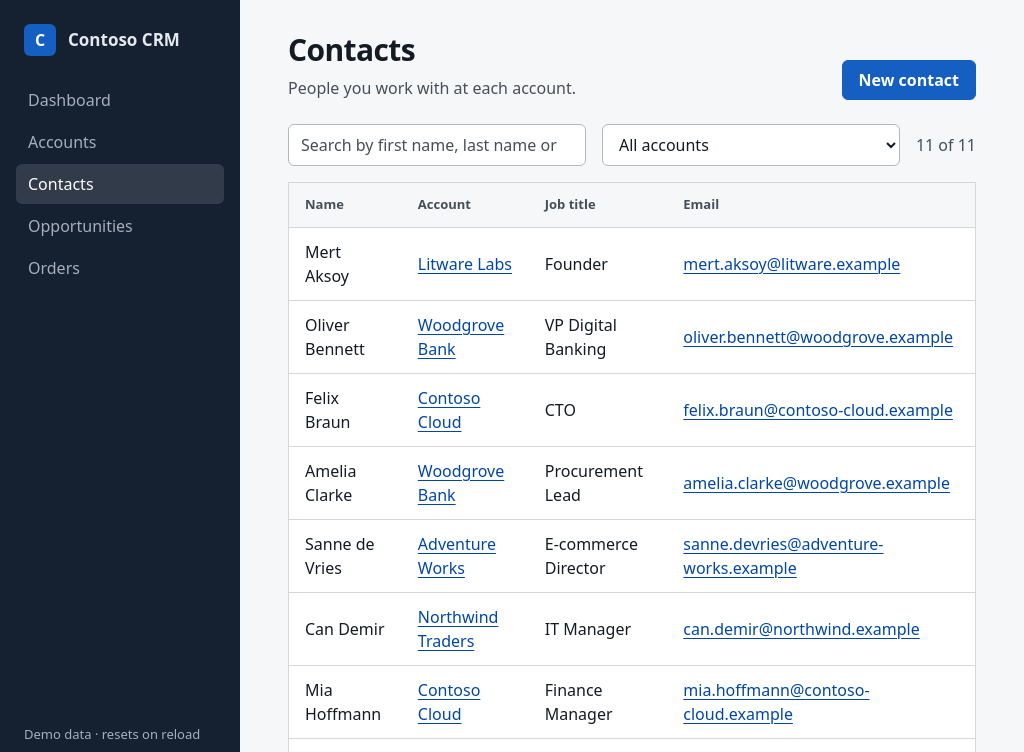
it: Contacts › combines account-first filtering with search and clears each control independently
Select "Woodgrove Bank" in the dropdown named "Account" at [751, 145], box [602,124,900,166]
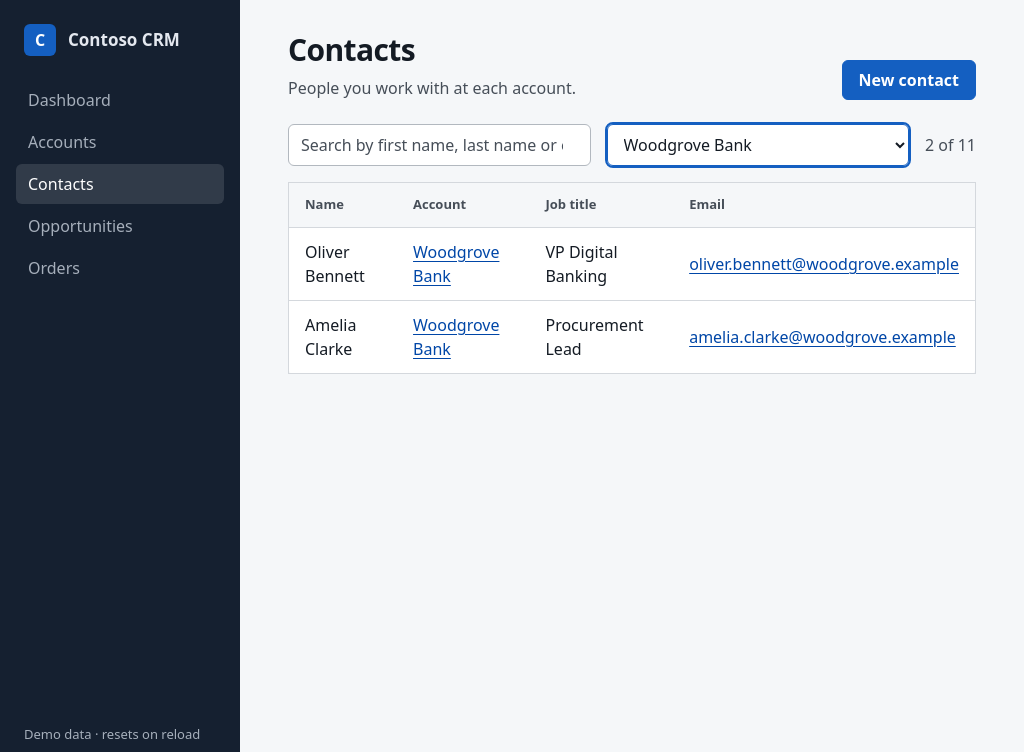
Type "OLIVER" into the search field named "Search contacts".
click(439, 145); type("OLIVER")  # box [288,124,590,166]
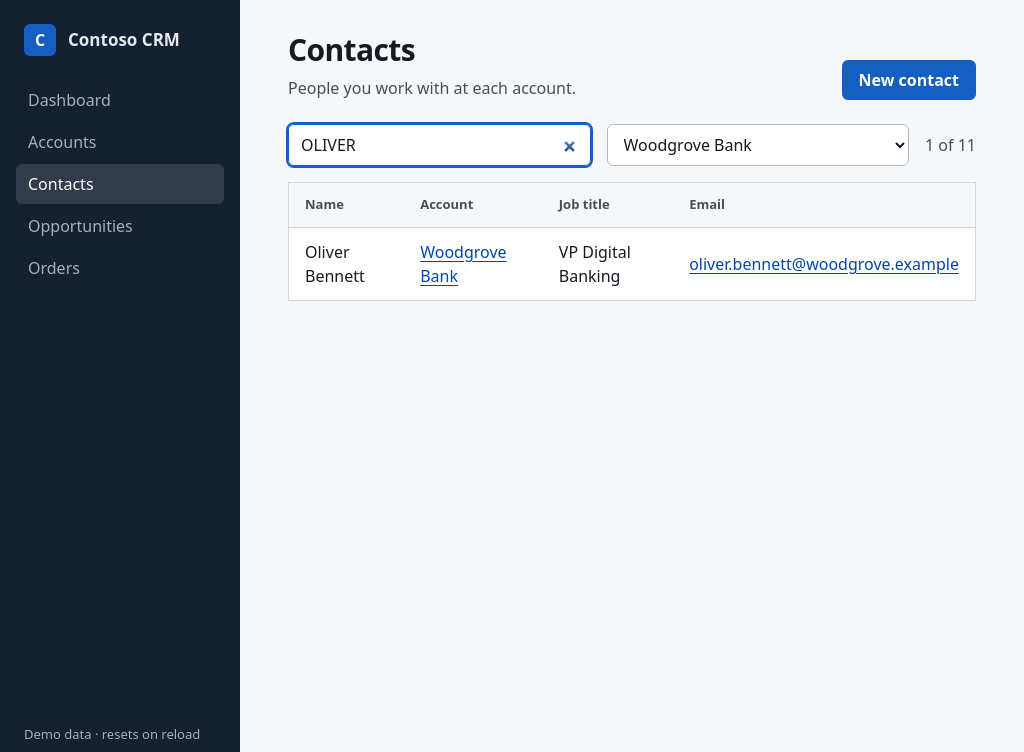
Now the text "1 of 11" is shown, box [925,133,976,157]
Clear the search field at [439, 145], box [288,124,590,166]
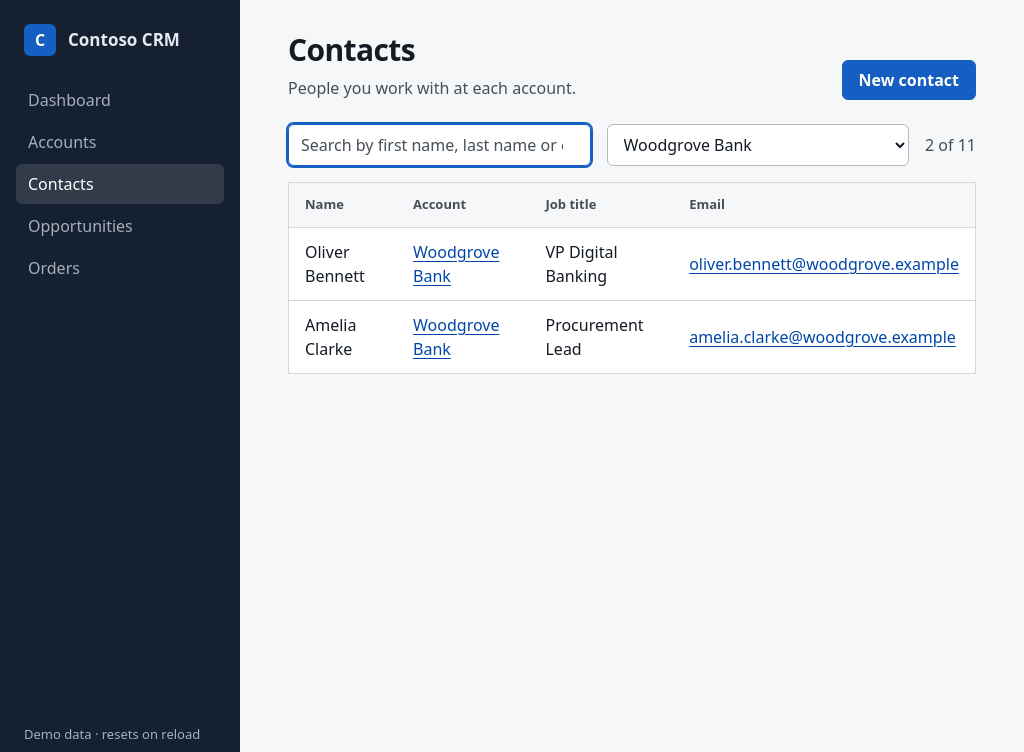
Now the text "2 of 11" is shown, box [925,133,976,157]
Type "OLIVER" into the search field with placeholder "Search by first name, last name or email".
click(439, 145); type("OLIVER")  # box [288,124,590,166]
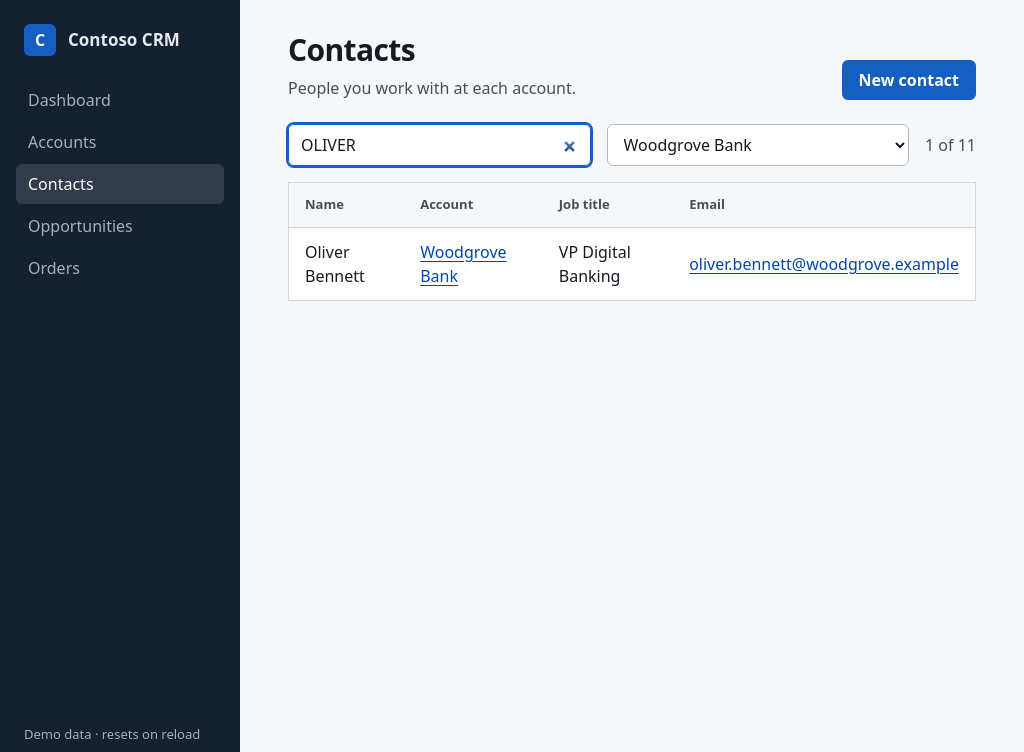
Select "All accounts" in the dropdown at [758, 145], box [606,124,909,166]
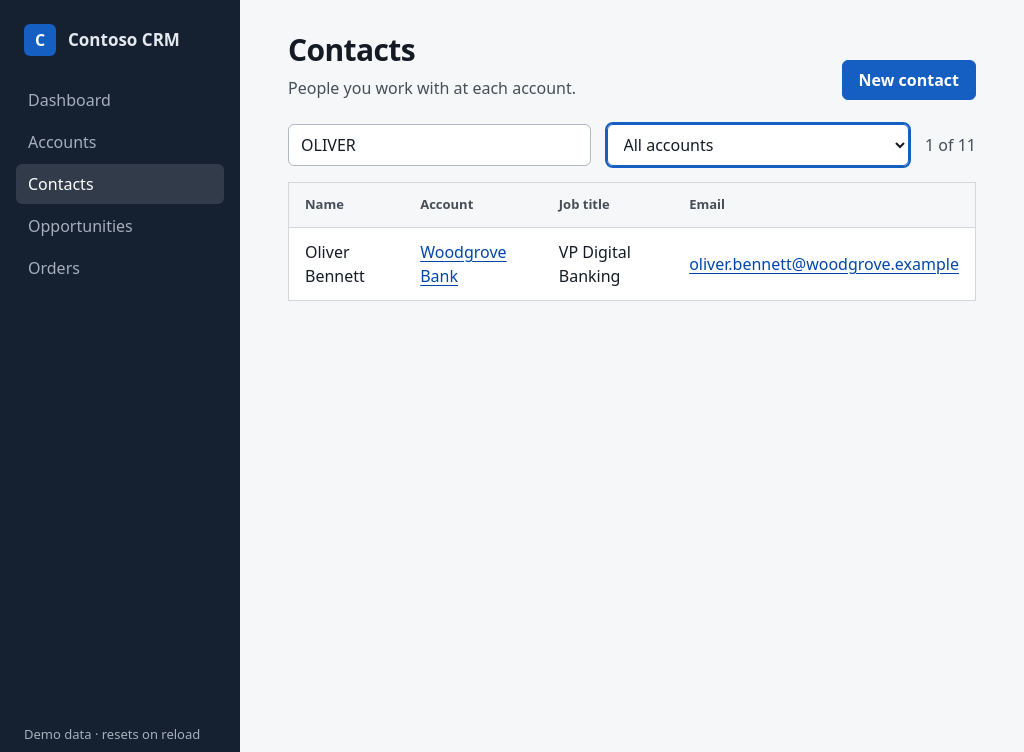
Clear the search field at [439, 145], box [288,124,590,166]
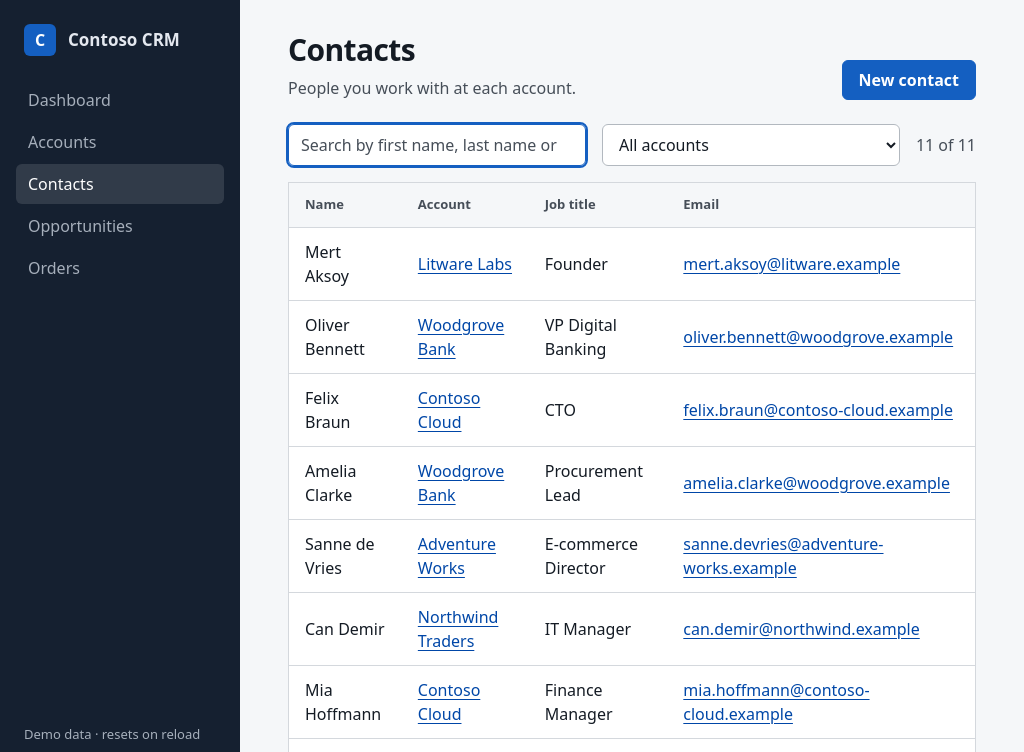
Now the text "11 of 11" is shown, box [916,133,976,157]
